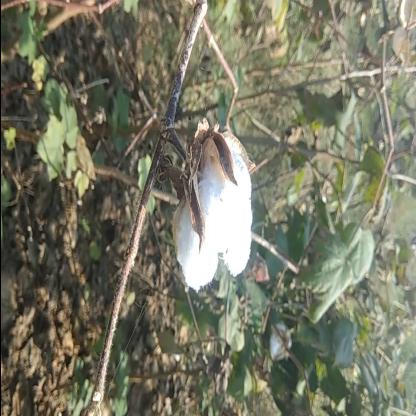cotton_ready: (129, 122, 264, 290)
